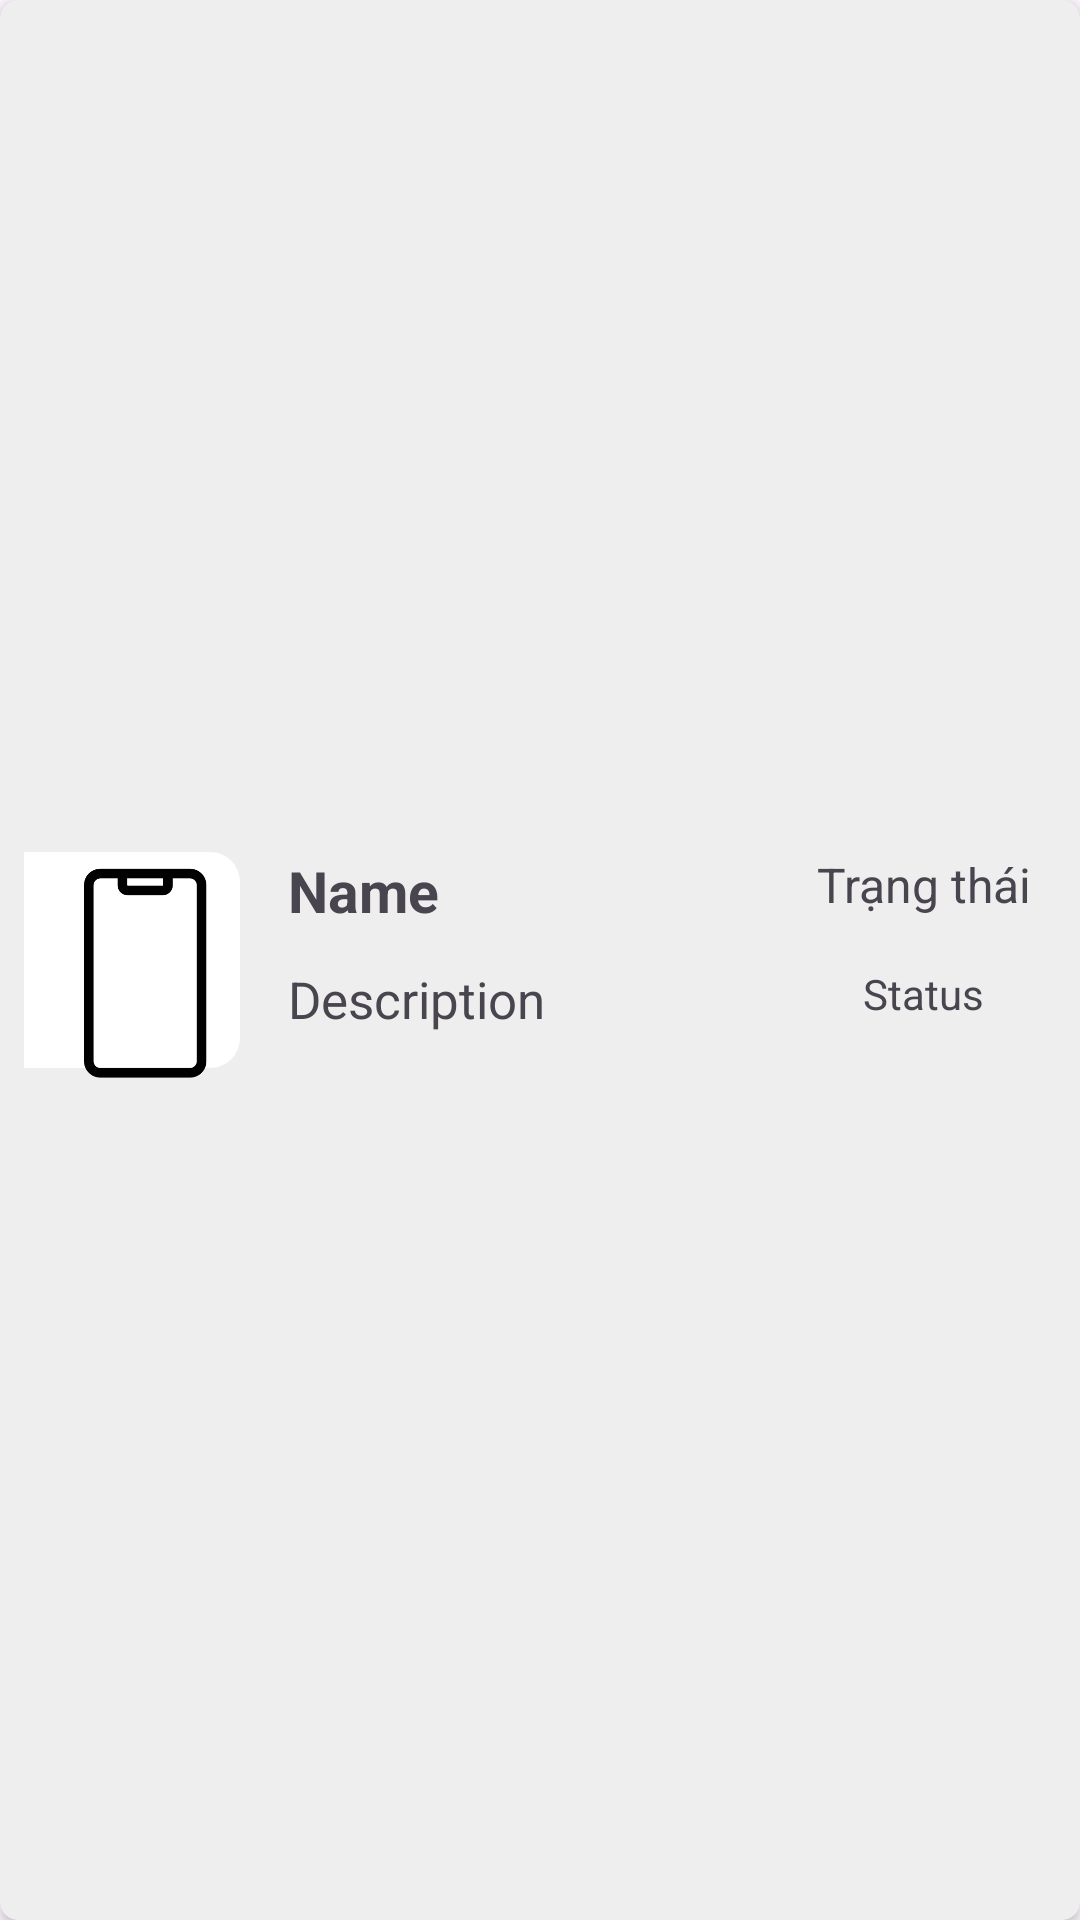

Locate icon controls on the screen. Image size 1080w x 1920h, boxes as [x1=x1, y1=y1, x2=x2, y2=y2].
phone: [x1=24, y1=852, x2=240, y2=1078]
